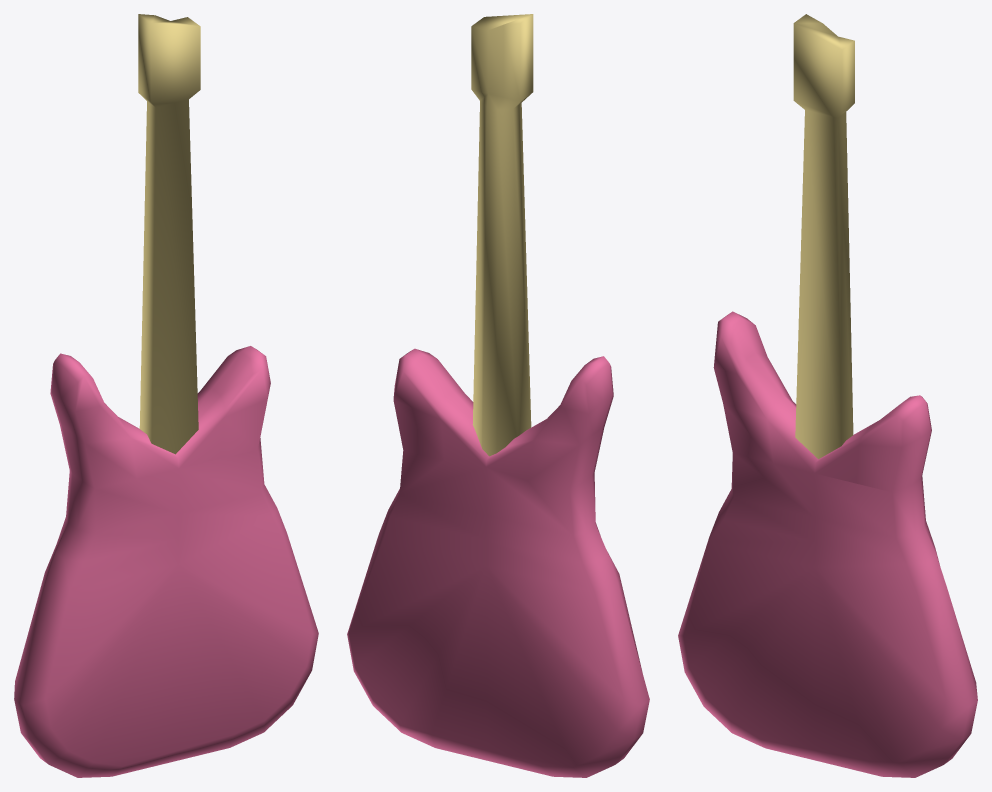
Rendered from Guitar.glb.
3 views of the same model, side by side, from view 1: azimuth 30°, elevation 25°; view 2: azimuth 150°, elevation 25°; view 3: azimuth 330°, elevation 25° (orthographic).
Parts seen in each view (by area): view 1: Electric Guitar; view 2: Electric Guitar; view 3: Electric Guitar.
Boxes of the visible parts, <box> form: Electric Guitar: <box>14,14,318,777</box>; Electric Guitar: <box>347,14,649,777</box>; Electric Guitar: <box>678,14,977,777</box>.
Size of the model in its own units: 0.5575 by 1.35 by 0.0846.
